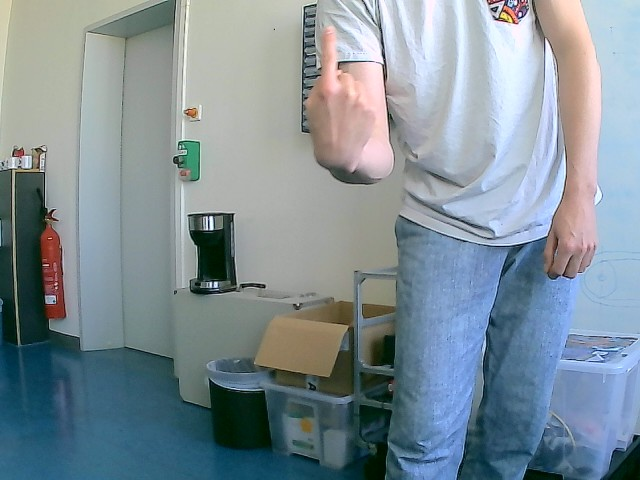no_gesture: (534, 177, 605, 285)
up: (304, 25, 378, 174)
